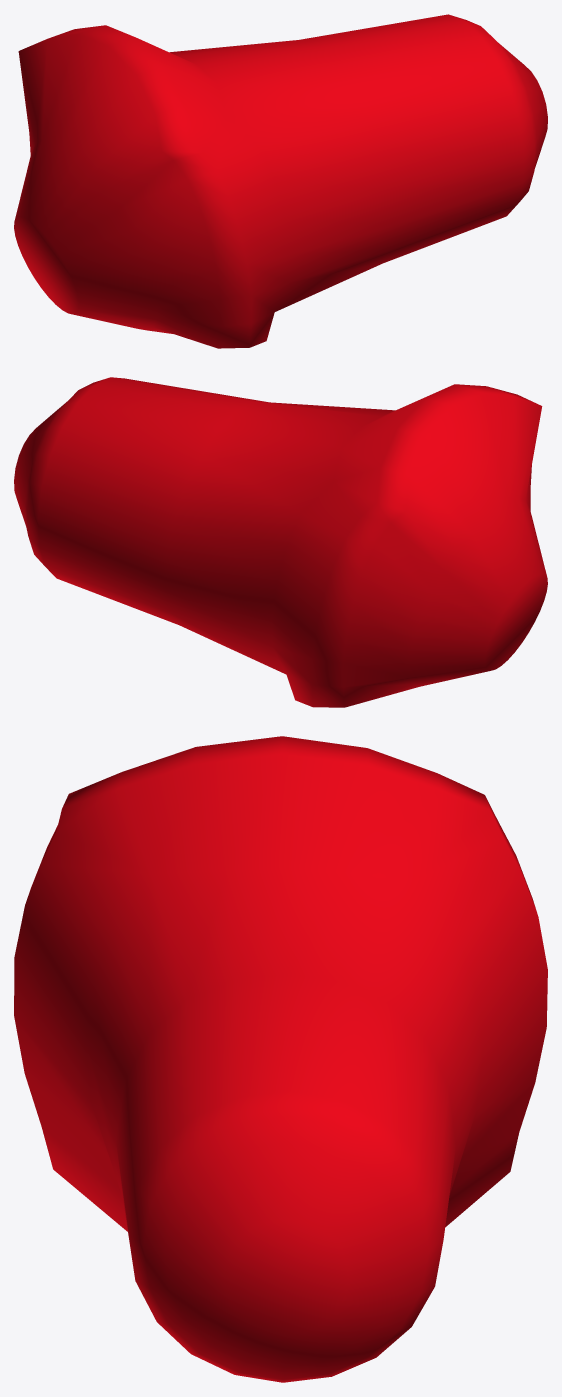
Rendered from Shoulder034.fbx.
3 renders of one model, top to bottom at view 1: azimuth 30°, elevation 25°; view 2: azimuth 150°, elevation 25°; view 3: azimuth 270°, elevation 25°, orthographic. The views are drawn at different scales.
Visible parts, largest first — view 1: Cube.001; view 2: Cube.001; view 3: Cube.001.
Boxes of the visible parts, x1,y1,x2,y2 form: Cube.001: (14,14,547,348); Cube.001: (14,377,547,707); Cube.001: (14,736,547,1382).
Size of the model in its own units: 11.6 by 6.71 by 7.23.
